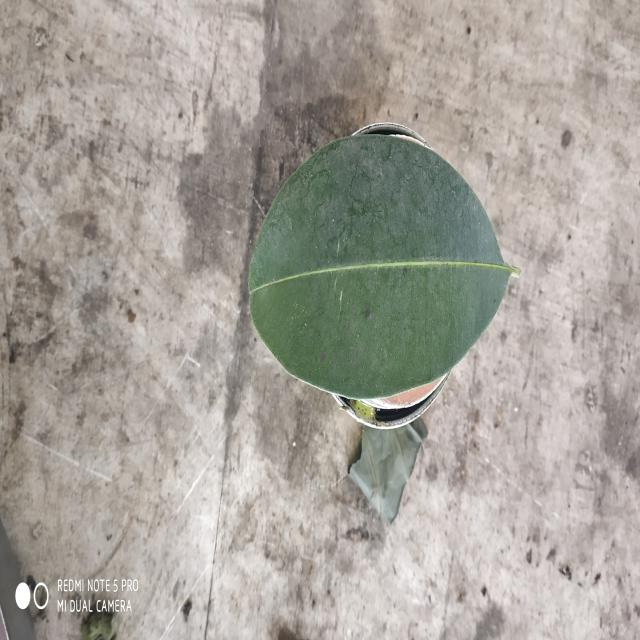sapota: (249, 133, 510, 398)
